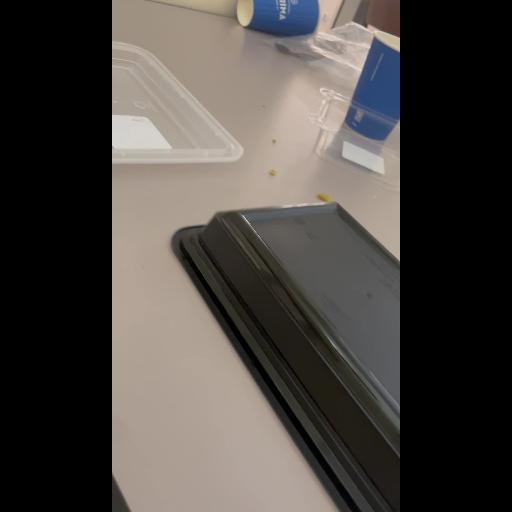rigid_plastic_container: (157, 189, 400, 512)
